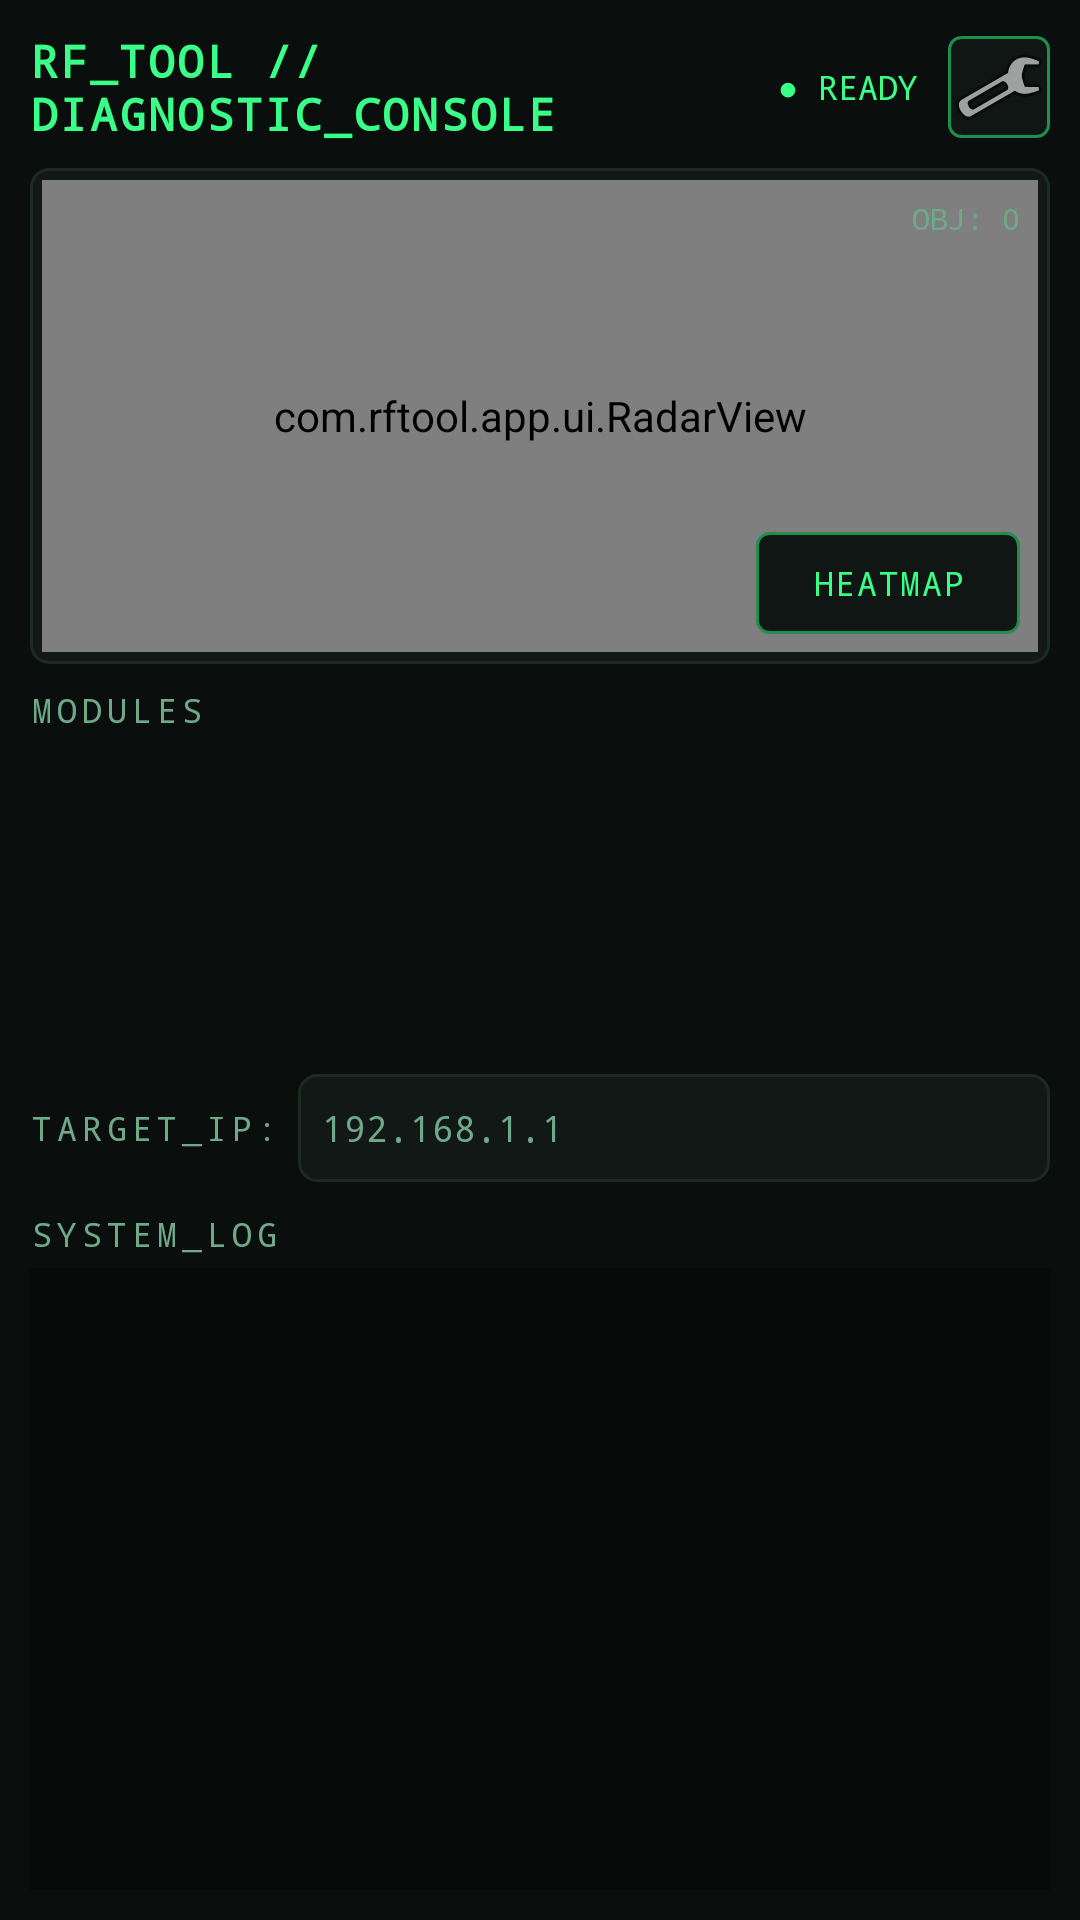

Icon bounding boxes for this 1080x1920 phone screenshot, format Rect(x1, y1, x2, y2):
Settings: Rect(948, 36, 1050, 138)
